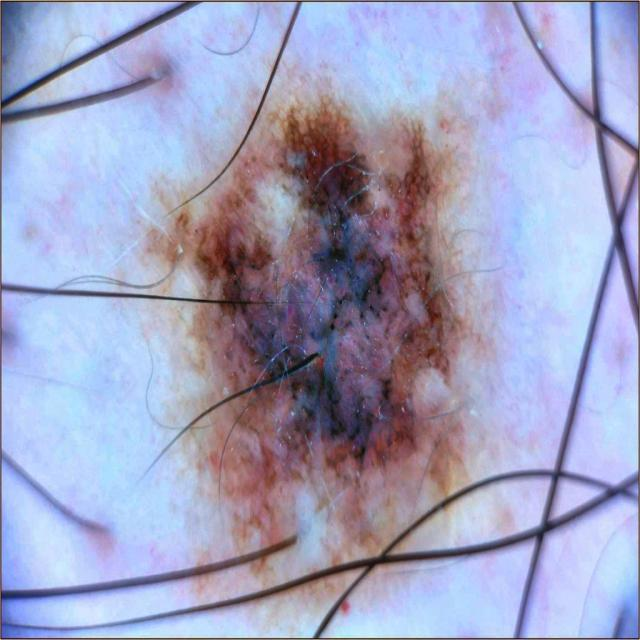Melanocytic-Nevi-NV-: (112, 98, 465, 558)
